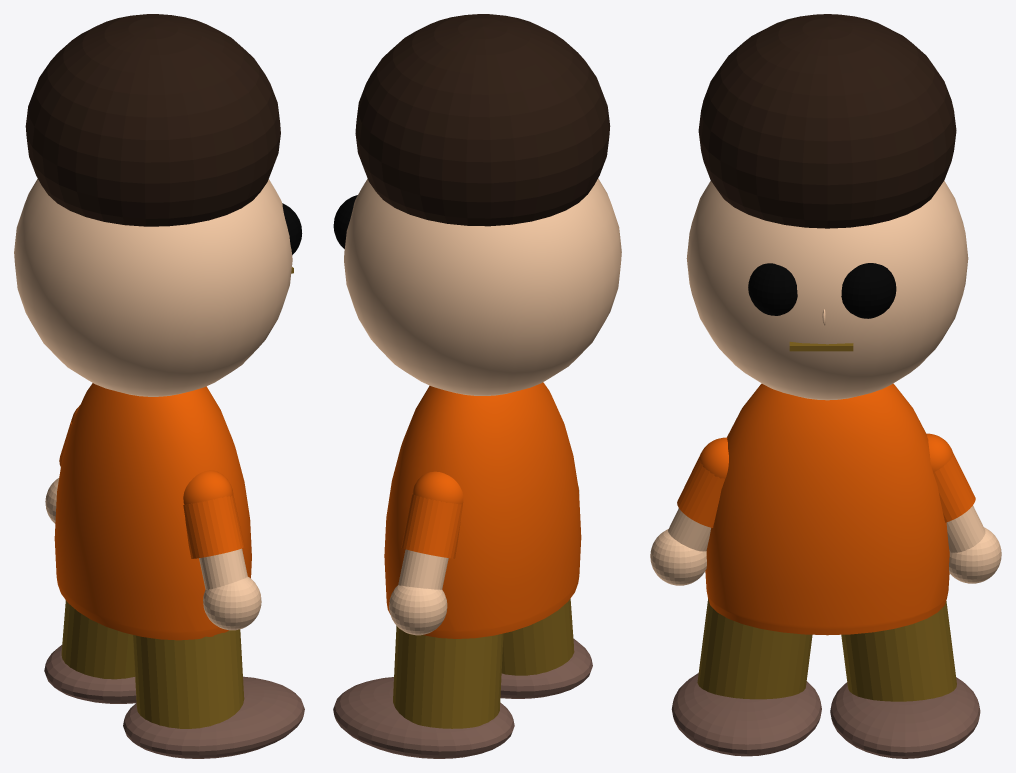
Rendered from avatar.glb.
The picture shows the model from 3 angles, left to right: view 1: azimuth 30°, elevation 25°; view 2: azimuth 150°, elevation 25°; view 3: azimuth 270°, elevation 25°; orthographic projection.
Parts seen in each view (by area): view 1: hair, head, body, left_leg, left_shoe, right_leg, left_sleve, right_shoe, left_hand, left_arm, left_shoulder, left_eye; view 2: hair, head, body, right_leg, right_shoe, left_leg, right_sleve, left_shoe, rigth_hand, rigth_arm, rigth_shoulder, right_eye; view 3: body, hair, head, right_leg, right_shoe, left_shoe, left_leg, right_eye, left_hand, left_eye, left_sleve, rigth_hand (+5 smaller).
Part boxes in pixels (x1=…): hair: x1=25, y1=14, x2=280, y2=226; head: x1=14, y1=179, x2=292, y2=396; body: x1=54, y1=383, x2=251, y2=640; left_leg: x1=133, y1=629, x2=244, y2=728; left_shoe: x1=123, y1=676, x2=304, y2=758; right_leg: x1=61, y1=600, x2=134, y2=679; left_sleve: x1=183, y1=495, x2=244, y2=558; right_shoe: x1=44, y1=645, x2=136, y2=703; left_hand: x1=203, y1=576, x2=261, y2=630; left_arm: x1=199, y1=548, x2=247, y2=589; left_shoulder: x1=183, y1=470, x2=233, y2=504; left_eye: x1=282, y1=203, x2=302, y2=254; hair: x1=355, y1=14, x2=610, y2=226; head: x1=344, y1=178, x2=621, y2=395; body: x1=384, y1=382, x2=581, y2=638; right_leg: x1=393, y1=625, x2=503, y2=728; right_shoe: x1=333, y1=677, x2=514, y2=758; left_leg: x1=501, y1=598, x2=574, y2=675; right_sleve: x1=401, y1=493, x2=462, y2=558; left_shoe: x1=500, y1=638, x2=592, y2=698; rigth_hand: x1=389, y1=585, x2=447, y2=635; rigth_arm: x1=398, y1=549, x2=448, y2=589; rigth_shoulder: x1=412, y1=471, x2=463, y2=504; right_eye: x1=333, y1=195, x2=357, y2=248; body: x1=705, y1=383, x2=949, y2=635; hair: x1=698, y1=14, x2=956, y2=228; head: x1=686, y1=180, x2=968, y2=400; right_leg: x1=841, y1=601, x2=956, y2=701; right_shoe: x1=830, y1=677, x2=980, y2=758; left_shoe: x1=671, y1=673, x2=821, y2=756; left_leg: x1=697, y1=598, x2=812, y2=699; right_eye: x1=841, y1=263, x2=896, y2=318; left_hand: x1=650, y1=529, x2=706, y2=585; left_eye: x1=748, y1=263, x2=797, y2=315; left_sleve: x1=677, y1=456, x2=724, y2=527; rigth_hand: x1=949, y1=527, x2=1001, y2=583.
Size of the model in its own units: 9.03 by 24.14 by 11.01.
